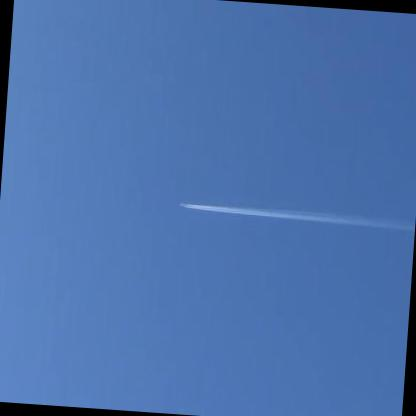plane: (178, 200, 187, 207)
